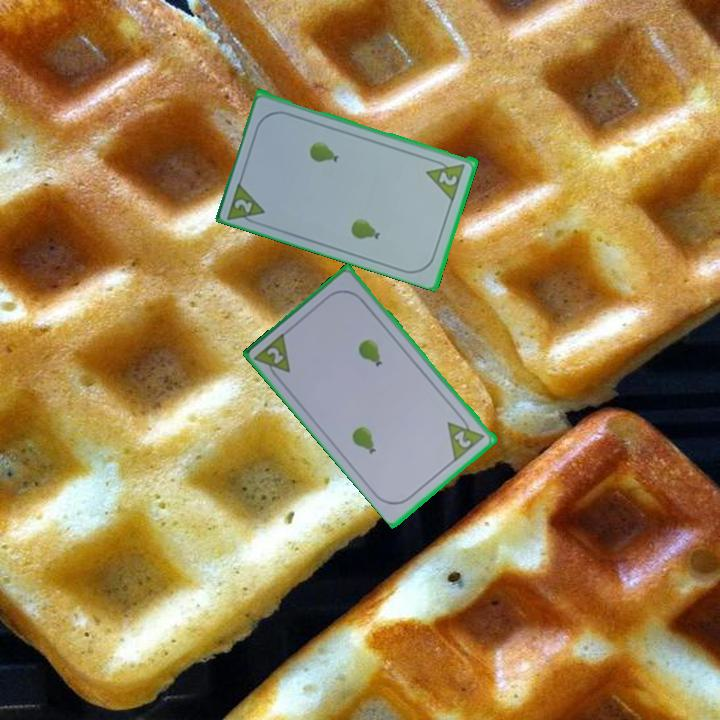2p: (252, 328, 294, 385), (451, 427, 475, 451), (435, 168, 460, 189), (231, 195, 256, 215)
